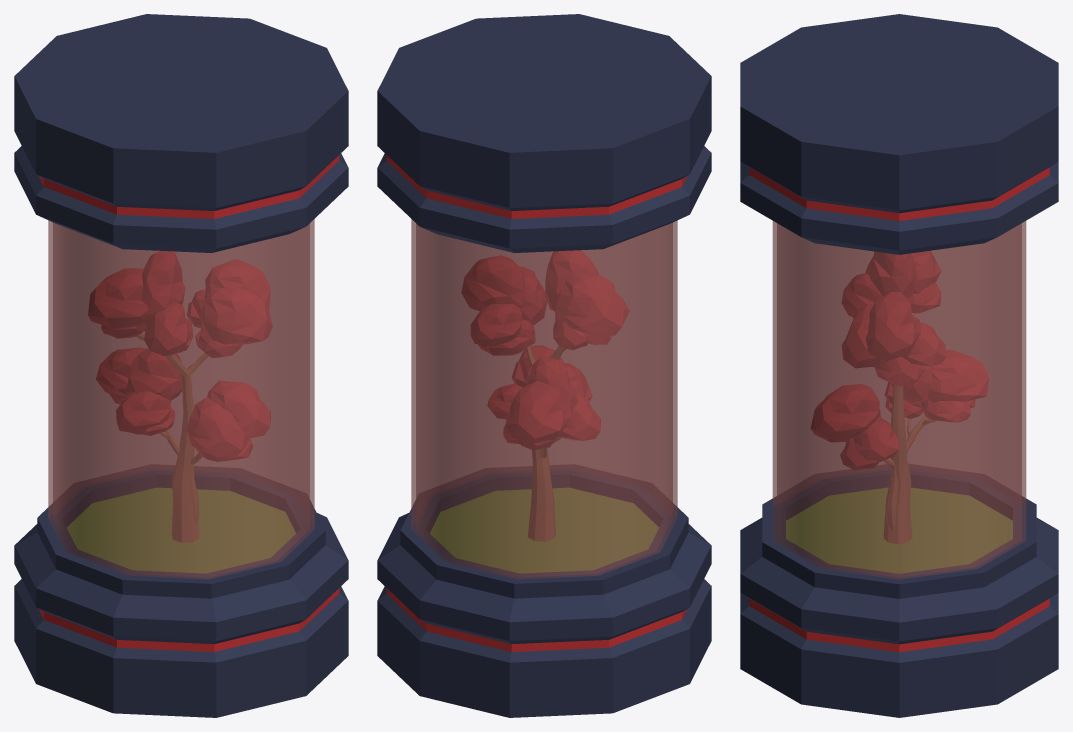
3 views of the same model, side by side, from view 1: azimuth 30°, elevation 25°; view 2: azimuth 150°, elevation 25°; view 3: azimuth 270°, elevation 25° (orthographic).
Parts seen in each view (by area): view 1: Tube_Frame, Tube_Glass; view 2: Tube_Frame, Tube_Glass; view 3: Tube_Frame, Tube_Glass.
Part boxes in pixels (box(x1,y1,x2,y2)): Tube_Frame: box(14, 14, 348, 717); Tube_Glass: box(48, 219, 314, 578); Tube_Frame: box(377, 14, 711, 717); Tube_Glass: box(411, 219, 677, 578); Tube_Frame: box(740, 14, 1058, 717); Tube_Glass: box(772, 221, 1026, 579).
Size of the model in its own units: 268 by 498 by 255.
